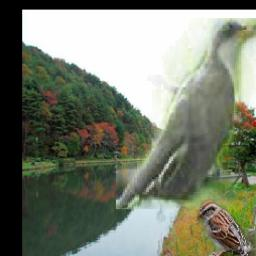Cuckoo: (116, 19, 256, 210)
Sparrow: (198, 201, 256, 256)
